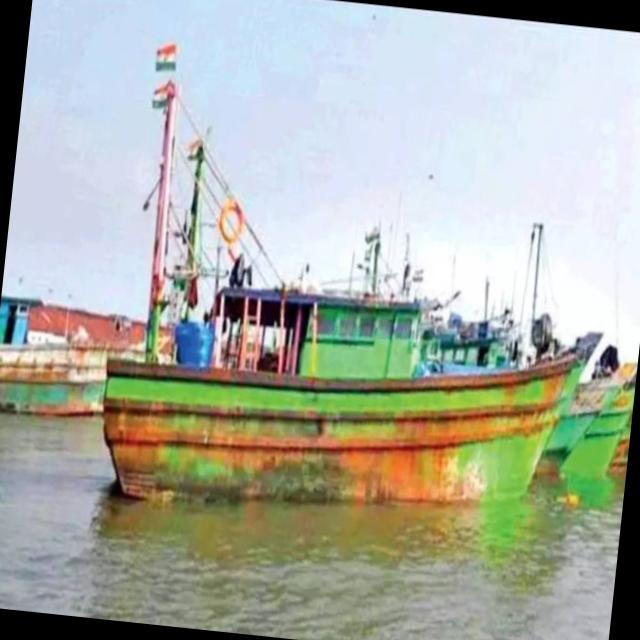boat: (74, 17, 638, 568)
